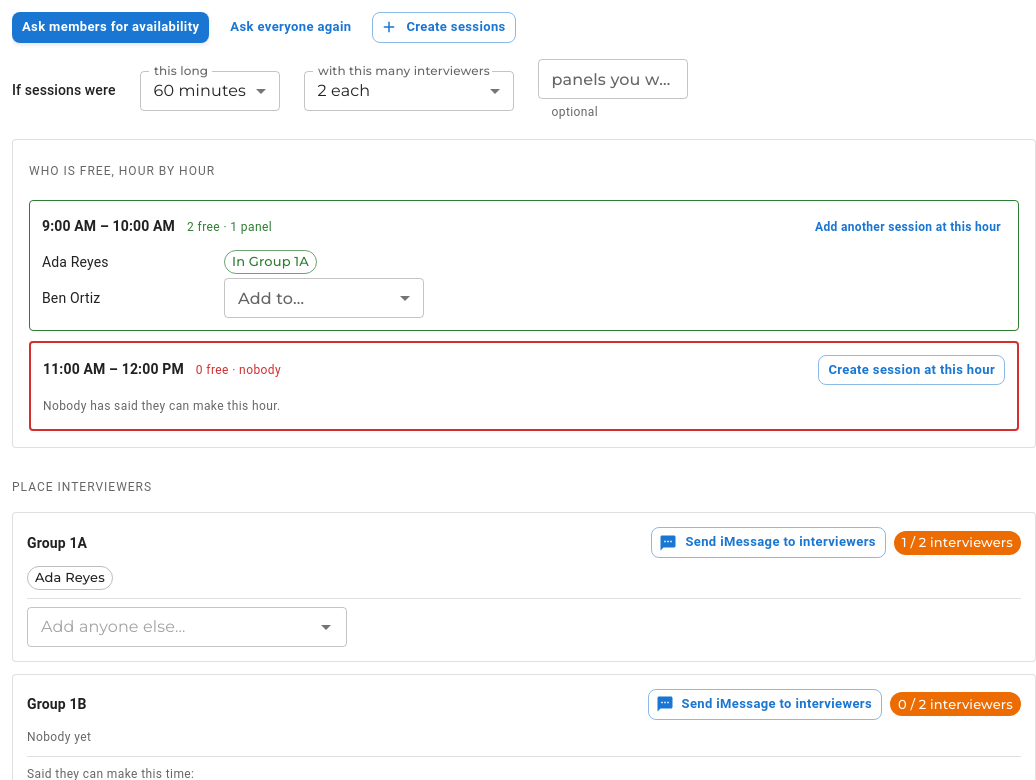
InterviewerCoverage placement › warns when a move double-books somebody
Expected: the text "Group 1A" is shown, [27,533,87,553]
Click the button "Ada Reyes" at (70, 578), box [27,566,113,590]
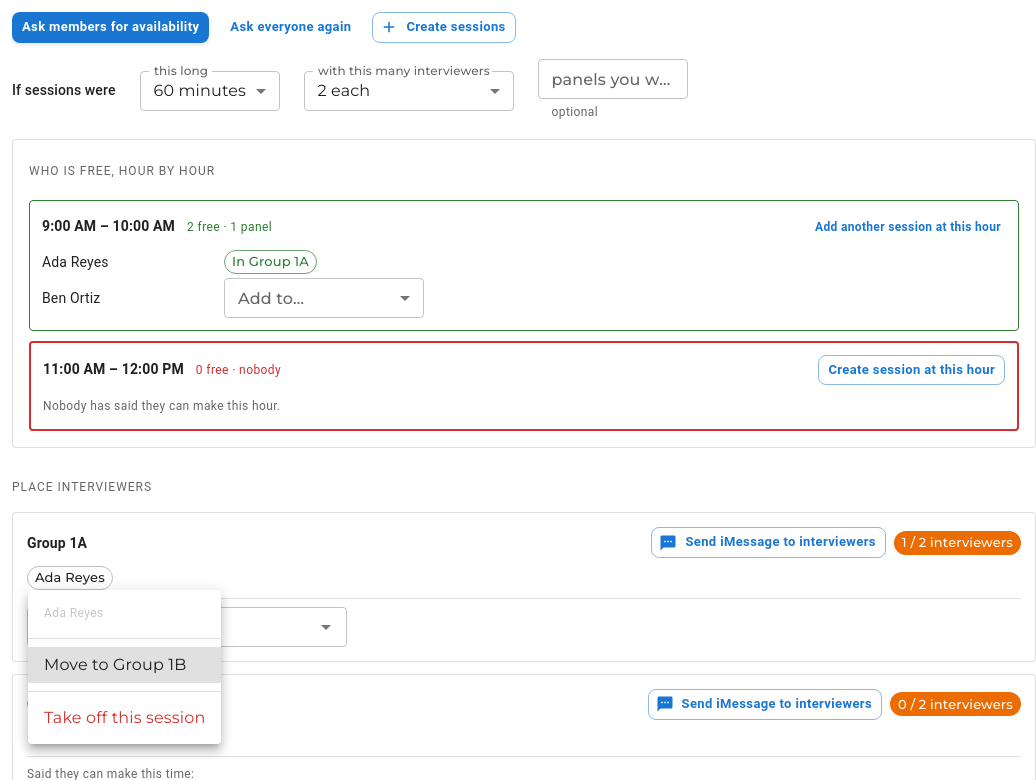
Click the menu item "Move to Group 1B" at (125, 665), box [28,647,221,683]
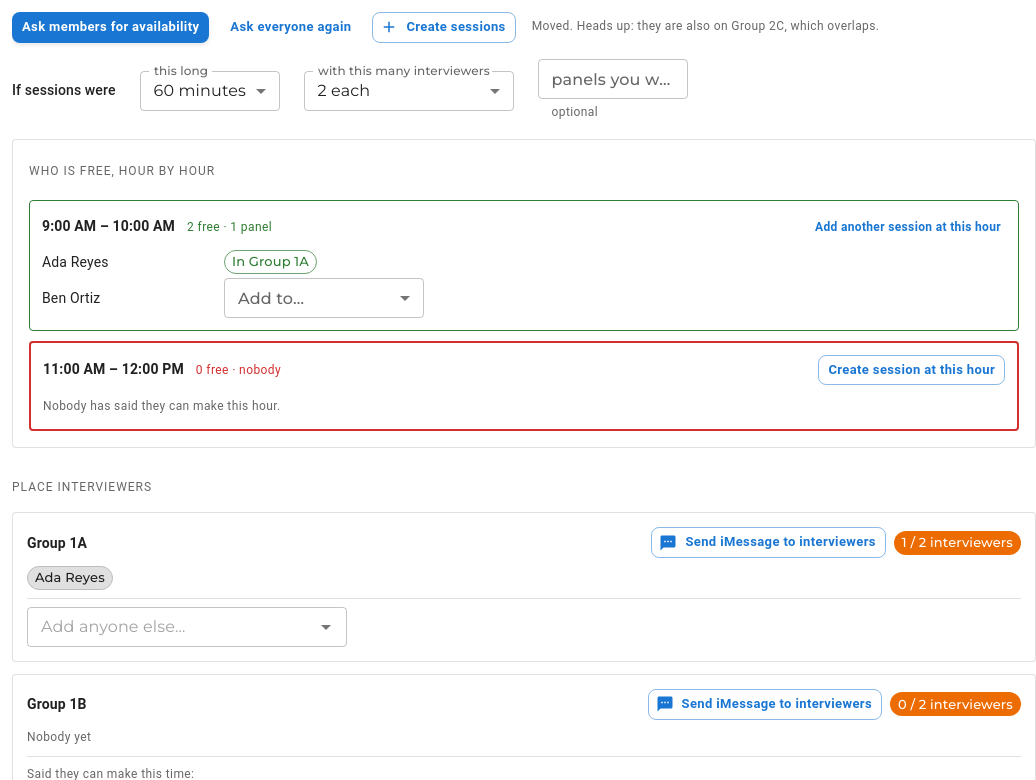
Result: the text "Moved. Heads up: they are also on Group 2C, which overlaps." is shown at [532,17,879,37]
